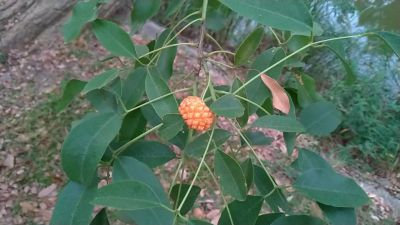eggs: (180, 93, 218, 131)
